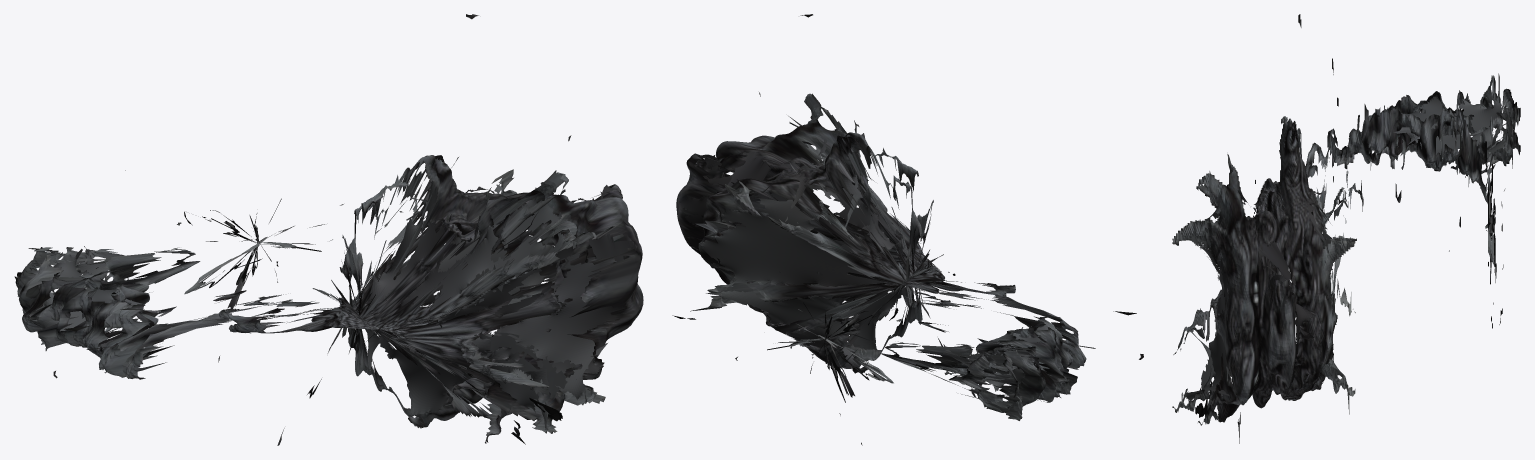
File: guess_mesh.glb
The picture shows the model from 3 angles, left to right: view 1: azimuth 30°, elevation 25°; view 2: azimuth 150°, elevation 25°; view 3: azimuth 270°, elevation 25°; orthographic projection. The views are drawn at different scales.
Visible parts, largest first — view 1: ipn, fill; view 2: ipn, fill; view 3: ipn, fill.
Part boxes in pixels (x1=…): ipn: x1=14, y1=14, x2=643, y2=445; fill: x1=17, y1=180, x2=636, y2=429; ipn: x1=672, y1=14, x2=1143, y2=445; fill: x1=679, y1=139, x2=1070, y2=408; ipn: x1=1172, y1=14, x2=1520, y2=443; fill: x1=1180, y1=95, x2=1515, y2=414.
Bounding box in the file's own units: 1.96 × 1.4 × 1.06.
2 materials, 1 textured.
